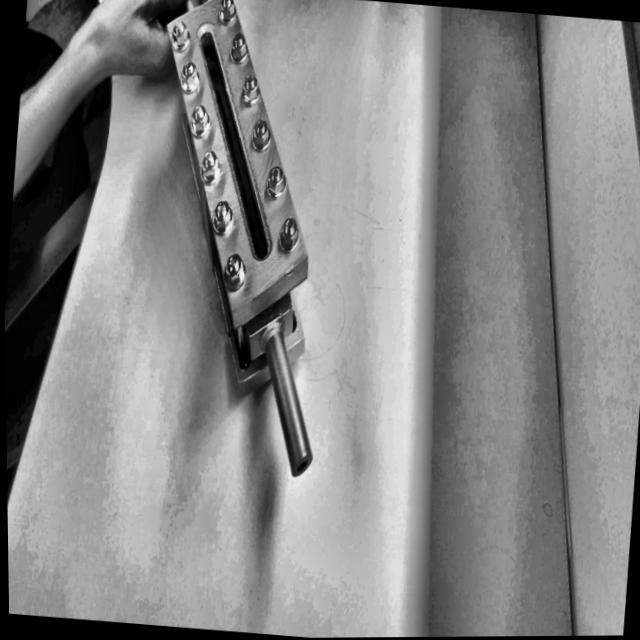ShuiWeiQi_12: (123, 0, 360, 463)
